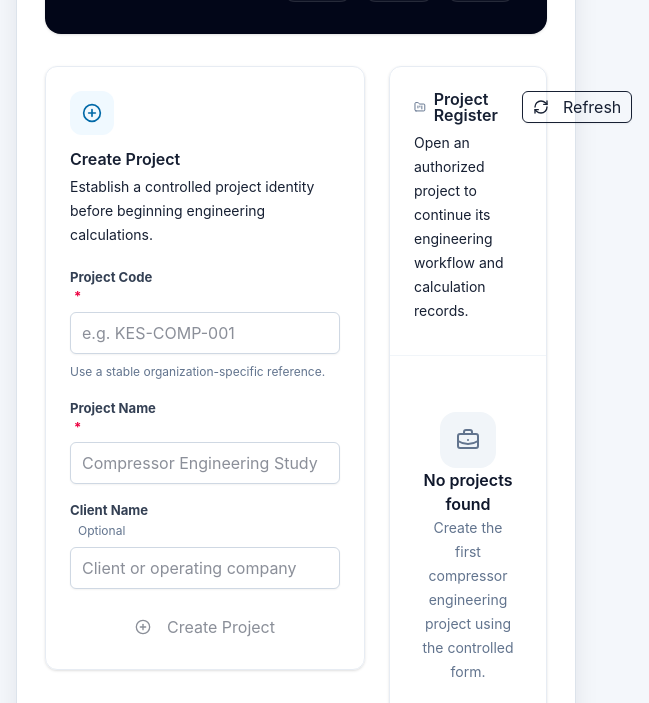
Scenario: ProjectsPage › creates a normalized project and refreshes the register
(page scrolled)
Check: the text "No projects found" is shown, box [422,468,514,516]
Type "  KES-NEW-001  " into the field labelled "Project Code" at (205, 333), box [70,312,340,354]
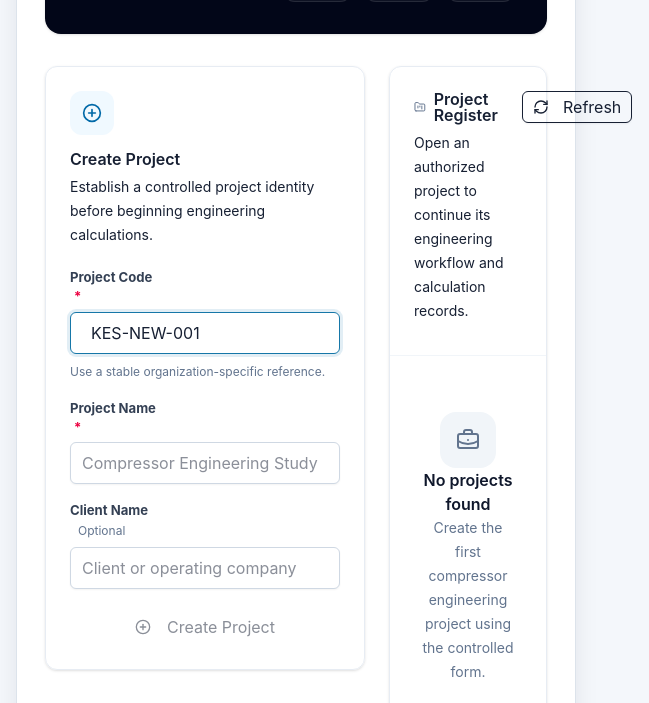
Type "  New Compressor Study  " into the field labelled "Project Name" at (205, 463), box [70,442,340,484]
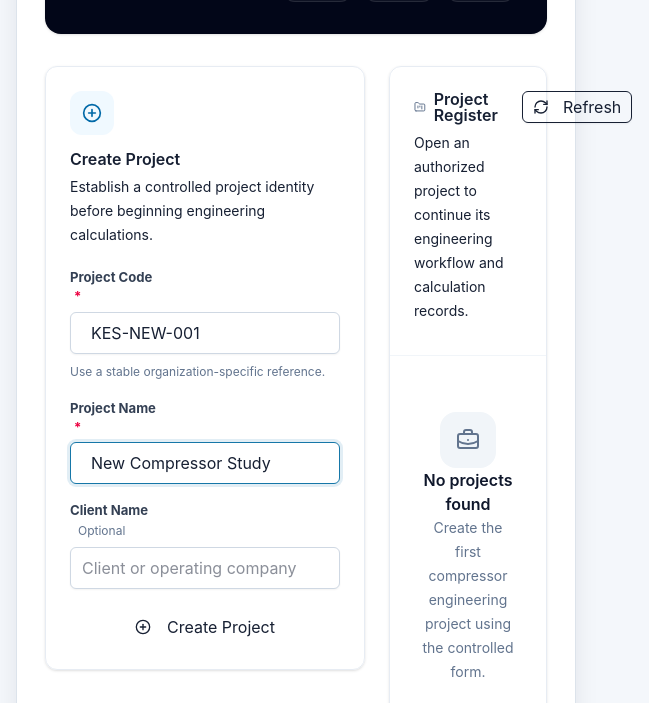
Type "  KES Client  " into the field labelled "Client Name" at (205, 568), box [70,547,340,589]
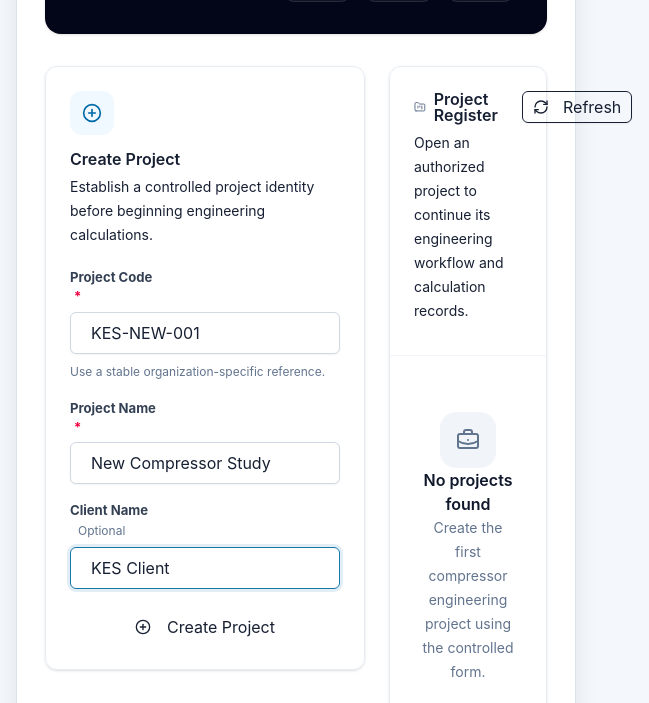
Click the button "Create Project" at (205, 627), box [70,609,340,645]
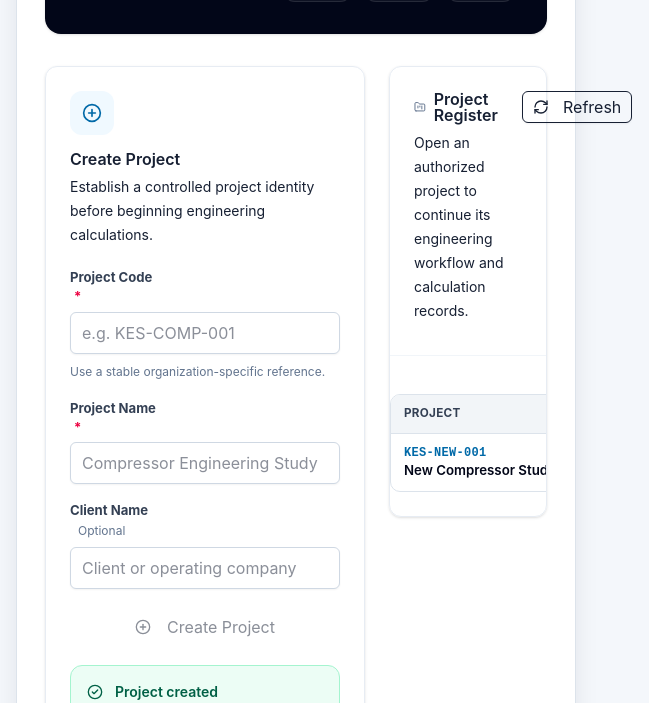
Check: the text "Project created" is shown, box [115,683,218,700]
Check: the field labelled "Project Code" is empty, box [70,312,340,354]
Check: the field labelled "Project Name" is empty, box [70,442,340,484]
